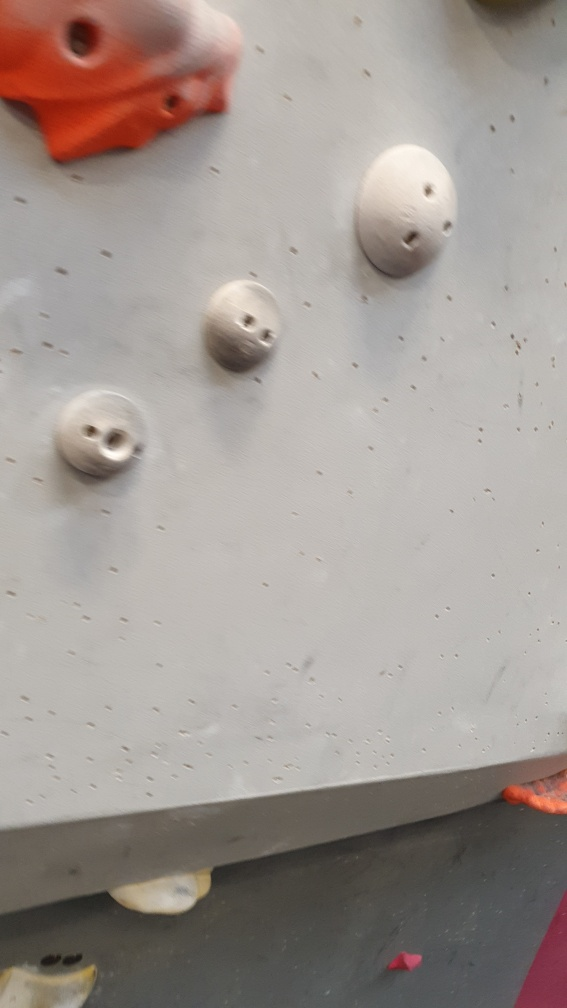Hand Start: (38, 947, 64, 970), (63, 947, 86, 971)
Jug: (2, 1, 247, 165), (499, 753, 567, 822)
Sloper: (352, 138, 463, 282), (56, 389, 151, 485), (200, 276, 288, 375)
